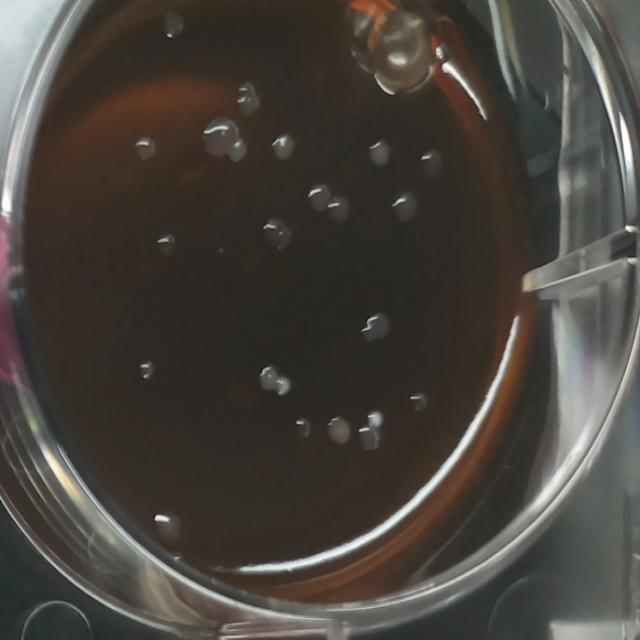Bacillus: (145, 498, 191, 553)
Staphylococcus: (273, 374, 294, 398), (365, 406, 385, 431)
Vagococcus: (324, 412, 353, 449), (269, 130, 298, 166), (368, 137, 392, 172), (225, 137, 250, 166), (256, 363, 280, 393)
Vibrio: (153, 228, 178, 262), (134, 132, 160, 164)
